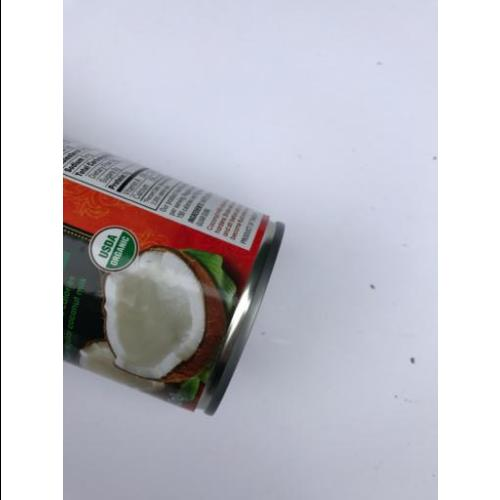metal: (64, 135, 282, 415)
